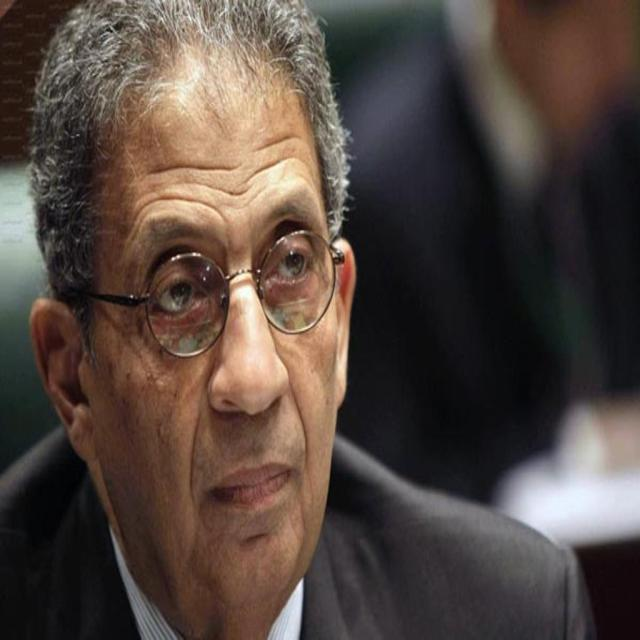Face: (83, 20, 368, 626)
